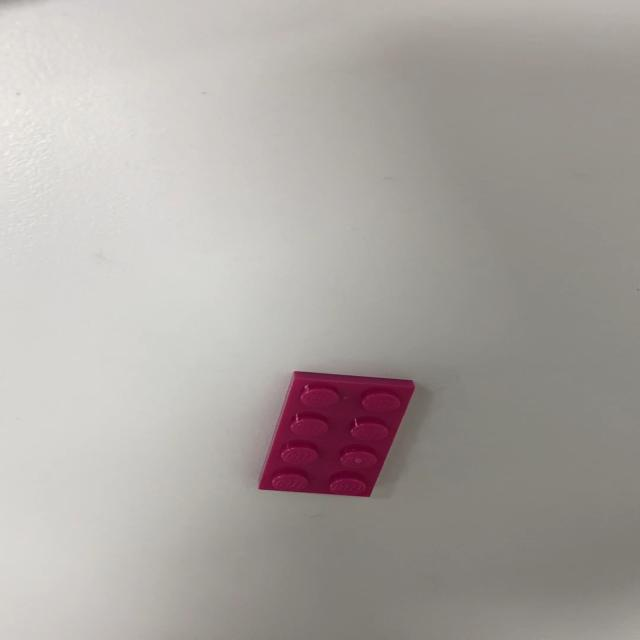C4x2x0: (256, 370, 416, 498)
